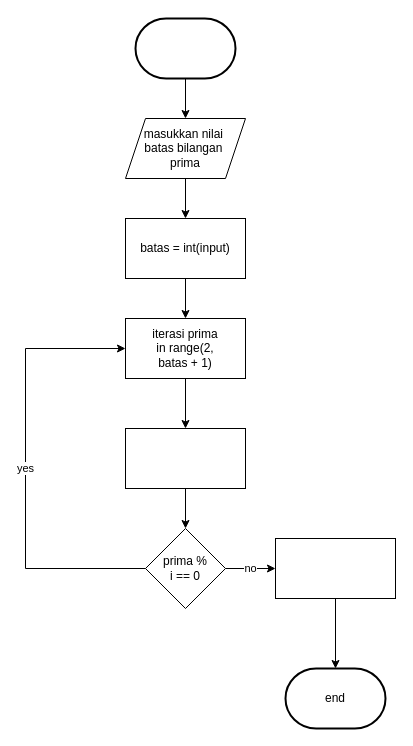
Image size: 413x746. Some labels were removed from this diagram. Each missing label, with the centre of its shape:
"iterasi prima in range(2, prima)" belongs at pixel 185 458.
"print prima" belongs at pixel 335 568.
"start" belongs at pixel 185 48.
